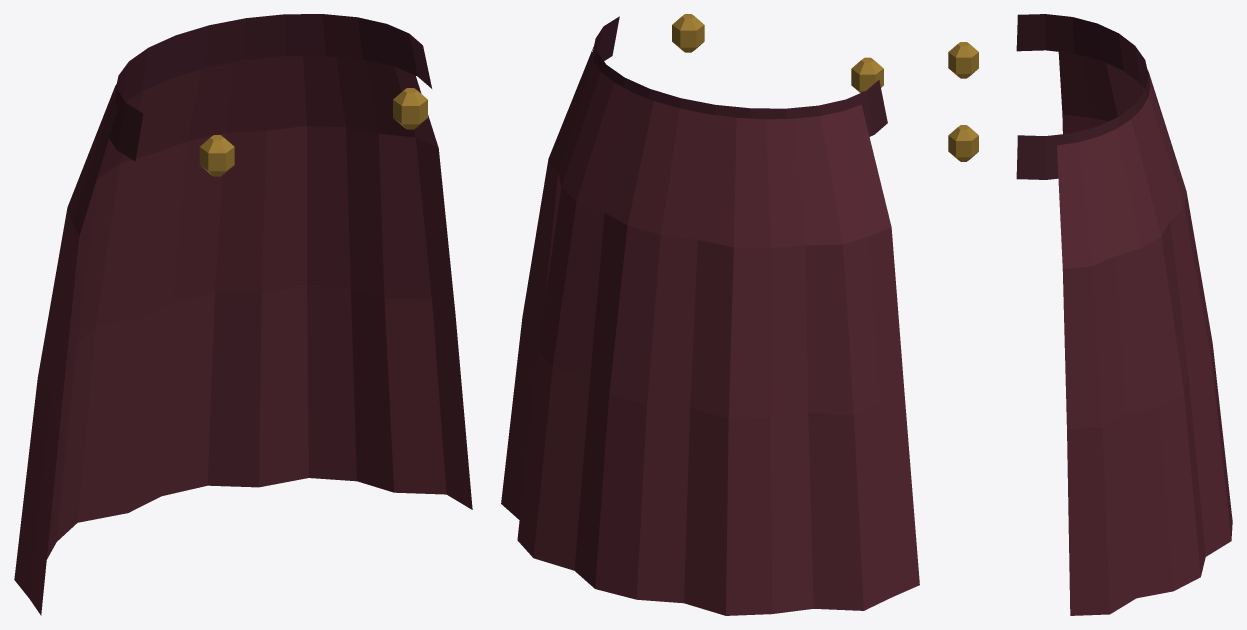
File: acc_cape_short.glb
The picture shows the model from 3 angles, left to right: view 1: azimuth 30°, elevation 25°; view 2: azimuth 150°, elevation 25°; view 3: azimuth 270°, elevation 25°; orthographic projection. The views are drawn at different scales.
Visible parts, largest first — view 1: acc_cape_short; view 2: acc_cape_short; view 3: acc_cape_short.
Boxes of the visible parts, x1=… form: acc_cape_short: x1=14, y1=14, x2=472, y2=615; acc_cape_short: x1=501, y1=14, x2=919, y2=615; acc_cape_short: x1=948, y1=14, x2=1232, y2=615.
Bounding box in the file's own units: 0.4468 × 0.5 × 0.2886.
3 materials, 1 textured.
